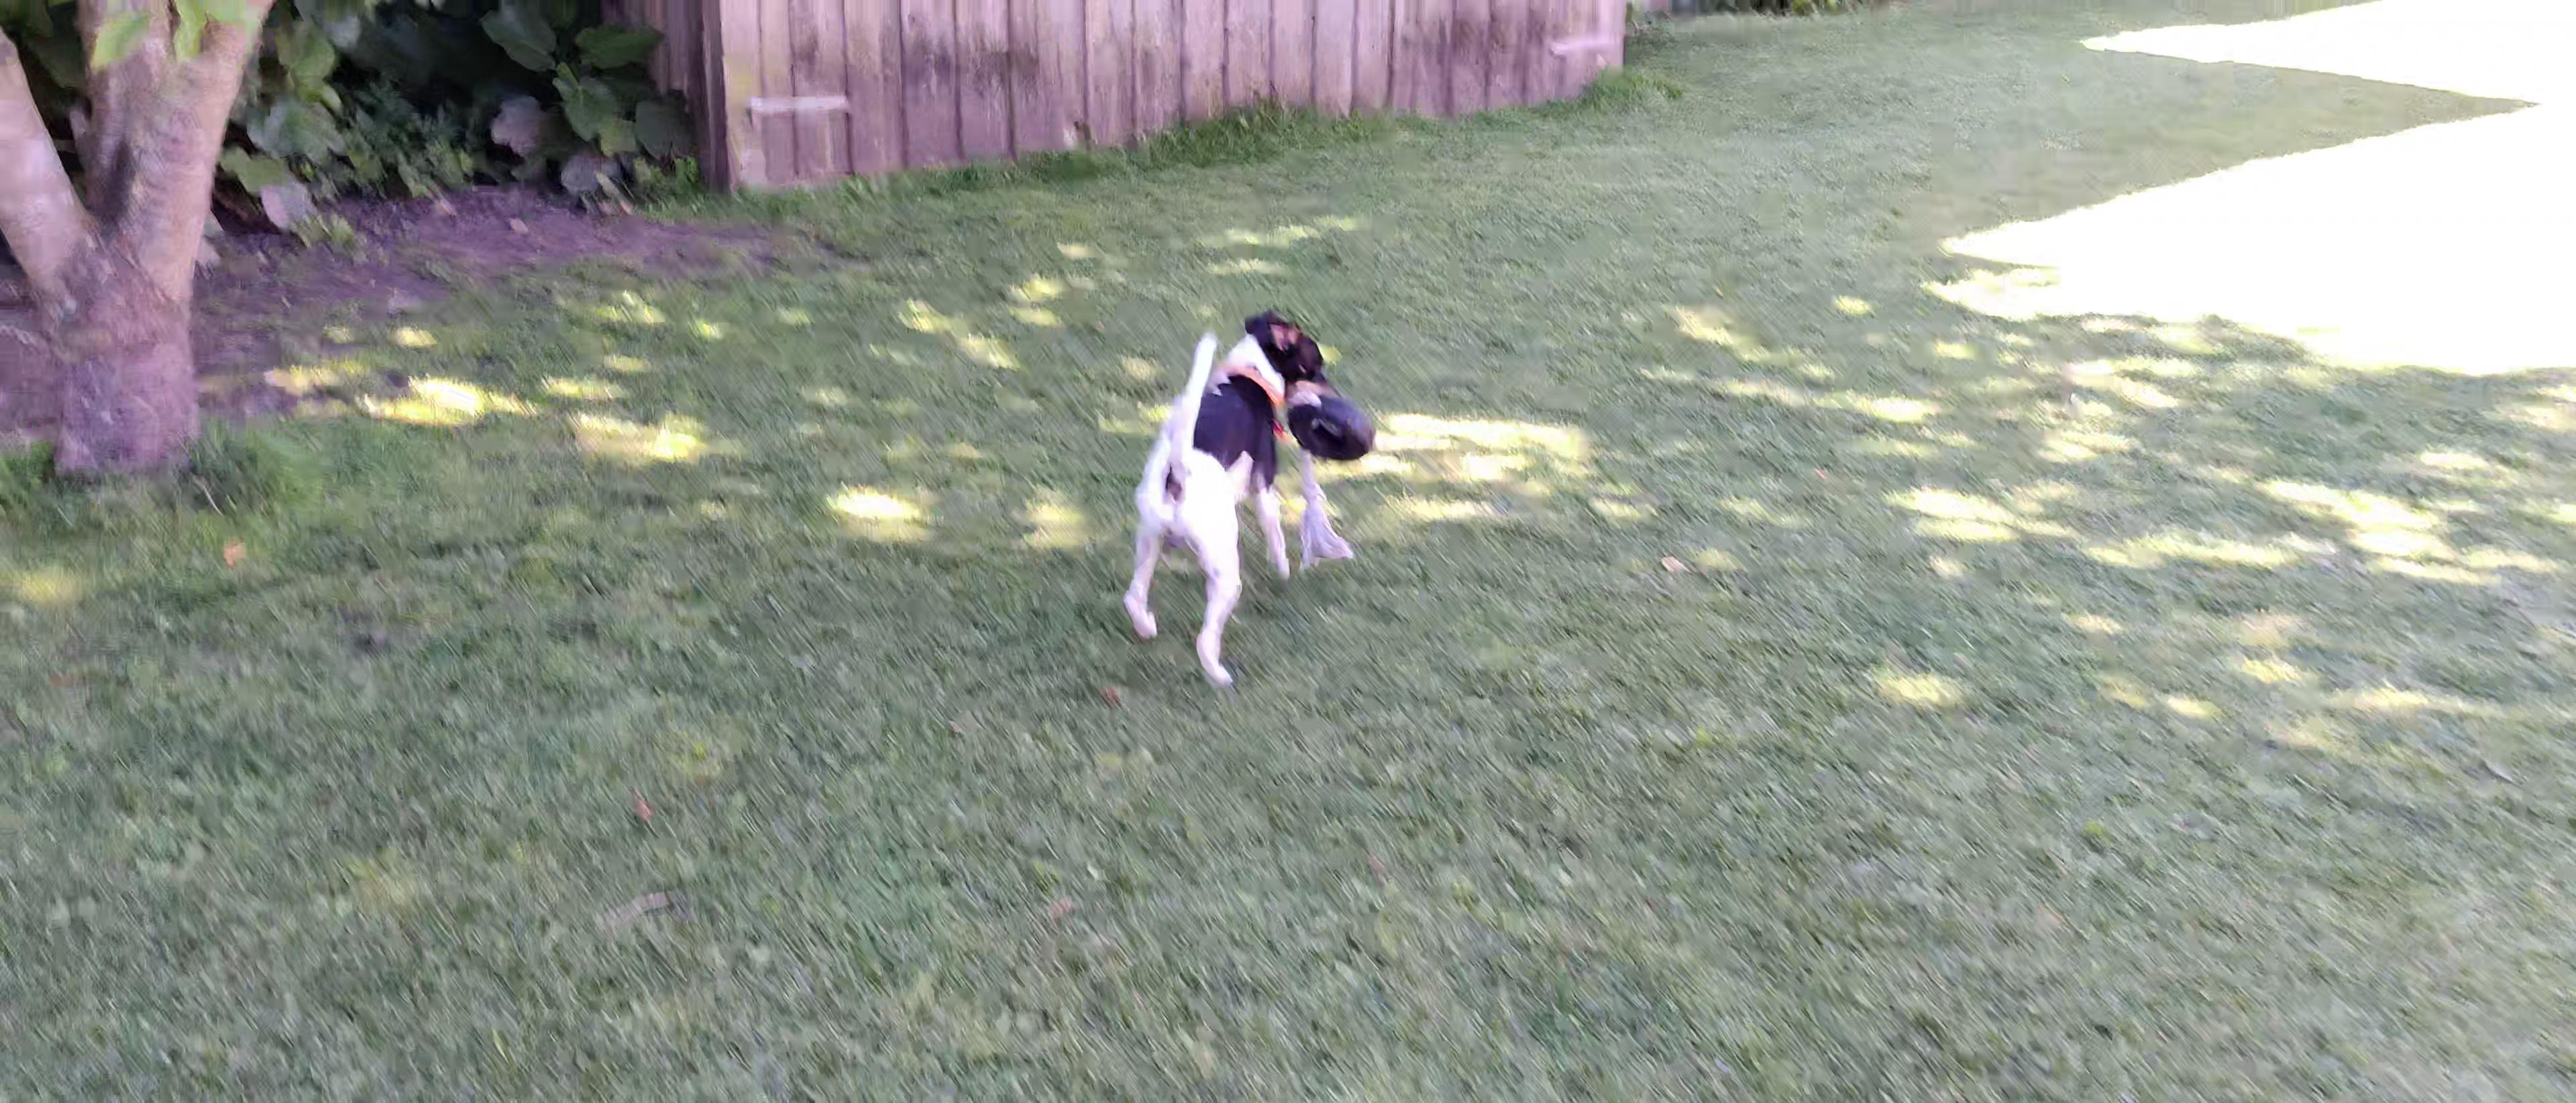Dog: (1119, 307, 1347, 684)
